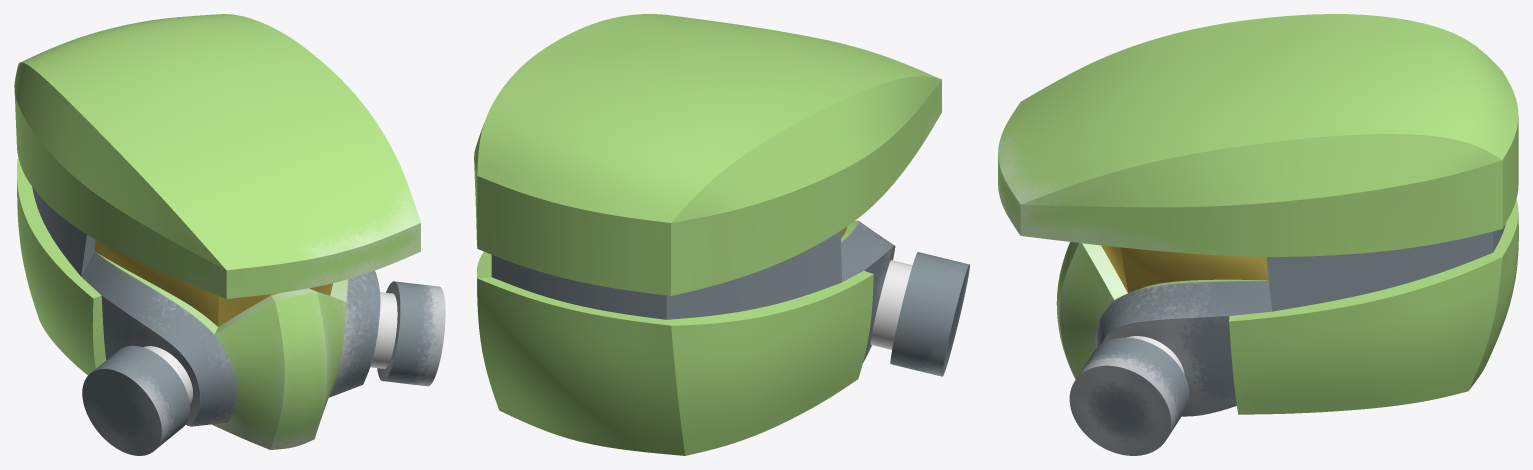
File: Marine_Helmet.fbx
3 renders of one model, left to right at view 1: azimuth 30°, elevation 25°; view 2: azimuth 150°, elevation 25°; view 3: azimuth 270°, elevation 25°, orthographic. The views are drawn at different scales.
Parts seen in each view (by area): view 1: Marine_Helmet.001; view 2: Marine_Helmet.001; view 3: Marine_Helmet.001.
Boxes of the visible parts, <box> form: Marine_Helmet.001: <box>14,14,445,455</box>; Marine_Helmet.001: <box>474,14,969,455</box>; Marine_Helmet.001: <box>998,14,1518,455</box>.
Size of the model in its own units: 0.2768 by 0.2308 by 0.332.
1 material, 1 textured.
